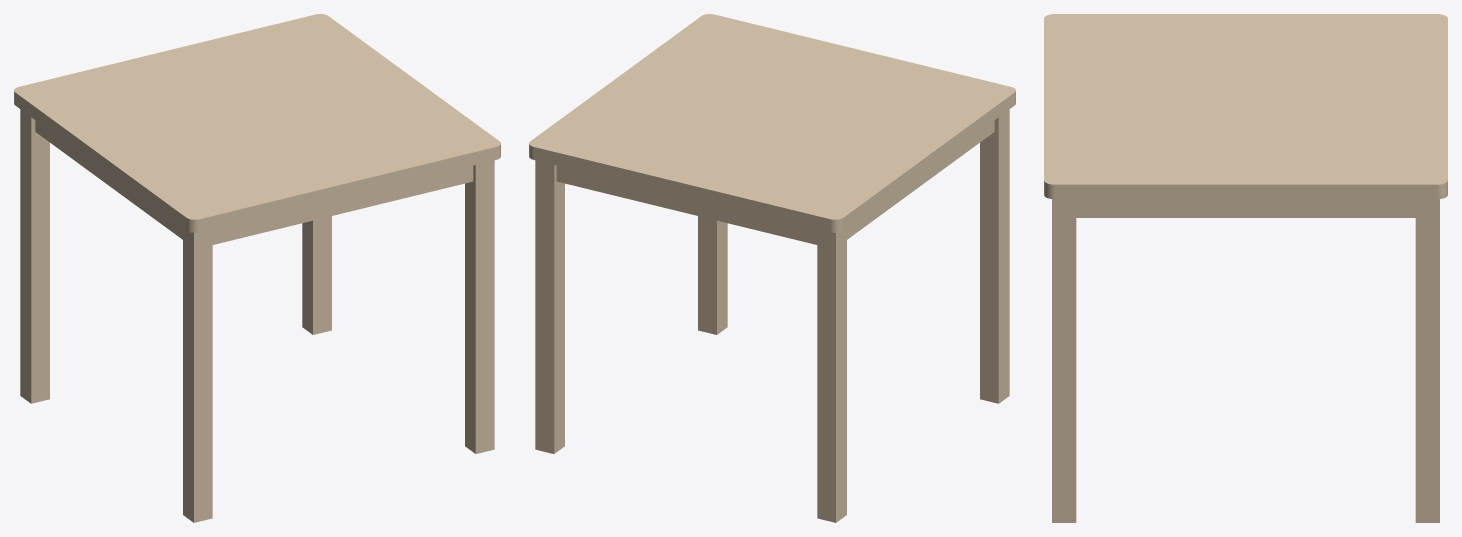
Rendered from 588_ダイニングテーブル2人掛け.glb.
3 renders of one model, left to right at view 1: azimuth 30°, elevation 25°; view 2: azimuth 150°, elevation 25°; view 3: azimuth 270°, elevation 25°, orthographic. The views are drawn at different scales.
Visible parts, largest first — view 1: Body; view 2: Body; view 3: Body.
Part boxes in pixels (box(x1,y1,x2,y2)): Body: box(14, 14, 500, 522); Body: box(529, 14, 1015, 522); Body: box(1044, 14, 1447, 522).
Bounding box in the file's own units: 0.75 × 0.7 × 0.75.
